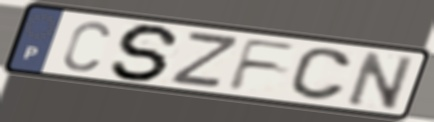C: (286, 46, 355, 103), (60, 18, 113, 73)
F: (225, 36, 301, 92)
N: (345, 49, 417, 112)
S: (108, 22, 184, 83)
Z: (165, 31, 244, 91)
